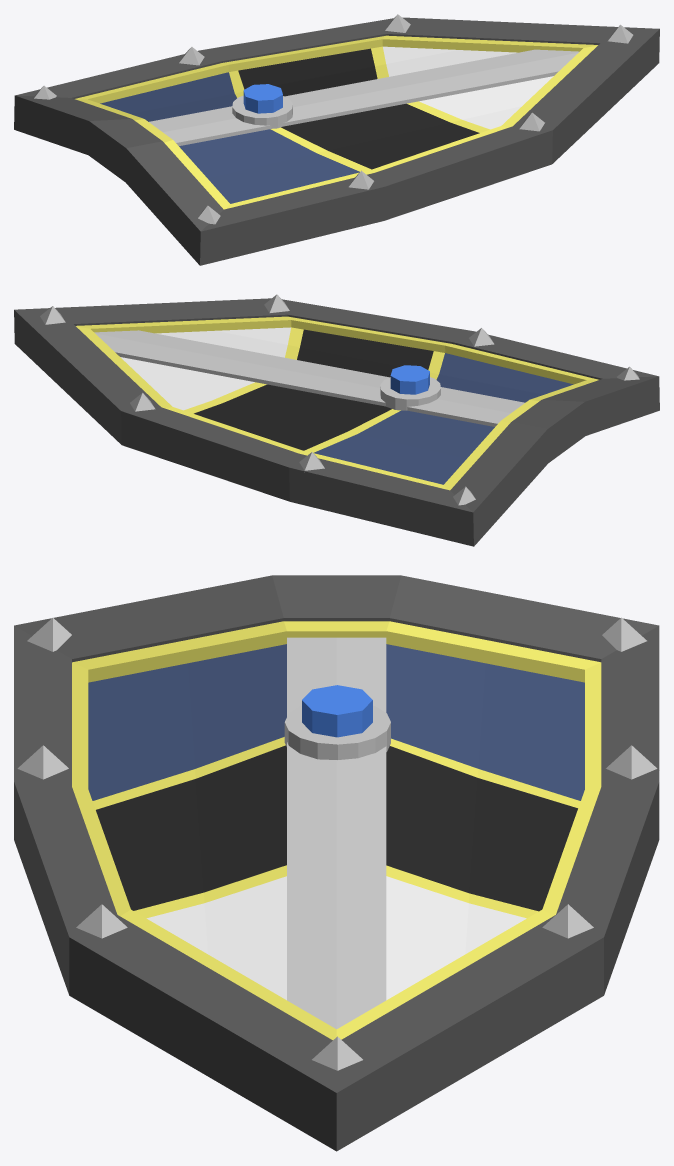
Rendered from Shield_4_e_bl.fbx.
3 views of the same model, one above another, from view 1: azimuth 30°, elevation 25°; view 2: azimuth 150°, elevation 25°; view 3: azimuth 270°, elevation 25° (orthographic). The views are drawn at different scales.
Visible parts, largest first — view 1: Plane.290, Plane.282, Plane.284, Plane.285, Plane.287, Plane.286, Plane.283, Circle.391, Circle.392; view 2: Plane.290, Plane.284, Plane.282, Plane.285, Plane.287, Plane.286, Plane.283, Circle.391, Circle.392; view 3: Plane.290, Plane.284, Plane.285, Plane.282, Plane.287, Plane.286, Plane.283, Circle.391, Circle.392, Cone.491, Cone.487, Cone.492 (+4 smaller).
Part boxes in pixels (<box>): Plane.290: <box>14,17,659,265</box>; Plane.282: <box>149,49,579,145</box>; Plane.284: <box>100,72,359,203</box>; Plane.285: <box>238,48,479,169</box>; Plane.287: <box>75,35,597,209</box>; Plane.286: <box>383,46,553,129</box>; Plane.283: <box>229,46,489,171</box>; Circle.391: <box>232,95,292,128</box>; Circle.392: <box>243,84,282,113</box>; Plane.290: <box>14,298,659,546</box>; Plane.284: <box>314,353,573,484</box>; Plane.282: <box>94,330,524,426</box>; Plane.285: <box>194,329,433,450</box>; Plane.287: <box>76,316,598,490</box>; Plane.286: <box>120,327,290,410</box>; Plane.283: <box>184,327,444,452</box>; Circle.391: <box>380,377,440,410</box>; Circle.392: <box>390,365,429,394</box>; Plane.290: <box>14,575,659,1151</box>; Plane.284: <box>88,644,584,800</box>; Plane.285: <box>96,745,577,911</box>; Plane.282: <box>287,637,386,1029</box>; Plane.287: <box>72,621,601,1039</box>; Plane.286: <box>146,876,526,1000</box>; Plane.283: <box>92,737,580,918</box>; Circle.391: <box>284,705,390,759</box>; Circle.392: <box>302,685,372,737</box>; Cone.491: <box>76,904,127,938</box>; Cone.487: <box>606,745,659,779</box>; Cone.492: <box>542,904,593,938</box>.
Bounding box in the file's own units: 78.1 × 17.09 × 45.54.
